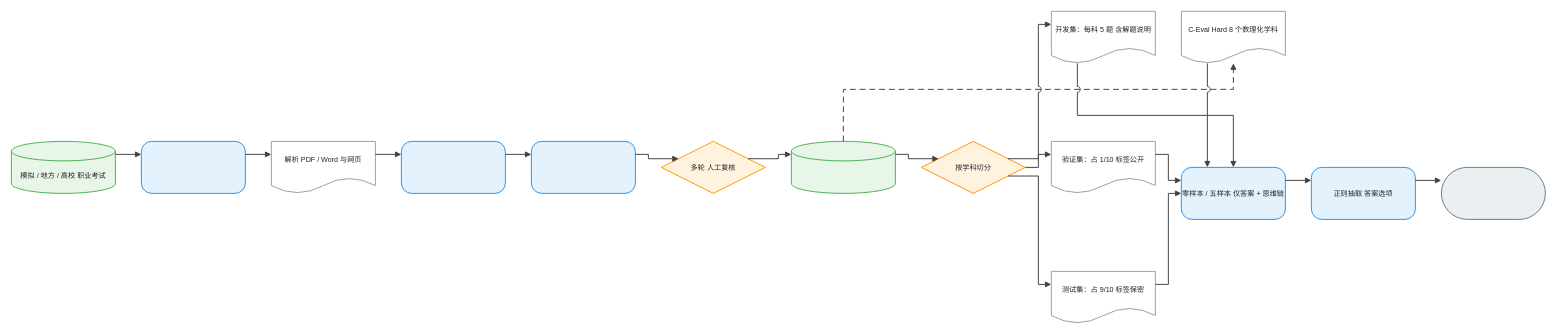
Some shapes in this 1557 by 335 pixel diagram are drawn without their labels. Here are the shapes that lost their labels. From the top down, the centre of each, then its label:
At pixel 193 167: "52 个学科 4 层级 + 4 领域".
At pixel 453 167: "统一为四选一 规范 LaTeX".
At pixel 583 167: "去重 与清洗".
At pixel 843 167: "C-Eval 13,948 道题".
At pixel 1493 193: "准确率 私有测试榜单".
